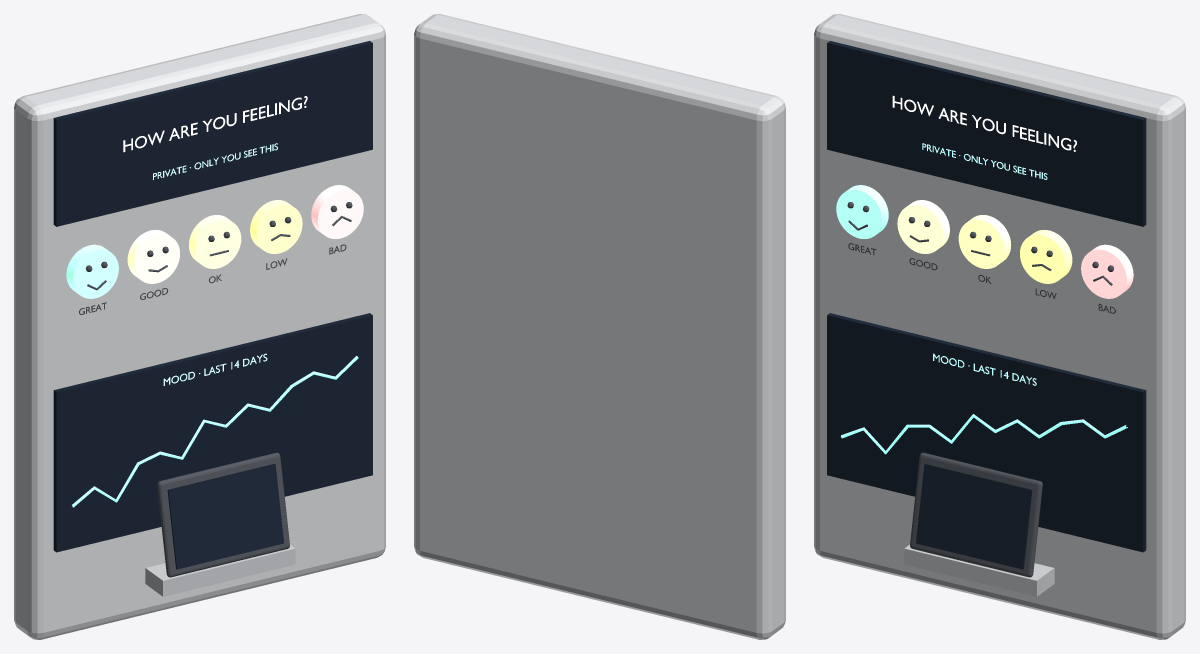
The model's file is mood_tracker.glb.
3 views of the same model, side by side, from view 1: azimuth 30°, elevation 25°; view 2: azimuth 150°, elevation 25°; view 3: azimuth 330°, elevation 25° (orthographic).
Parts seen in each view (by area): view 1: Crew_Tablet, Mood_Button.001, Mood_Button.002, Mood_Button, Mood_Trend, Question, Privacy_Note; view 2: Crew_Tablet; view 3: Crew_Tablet, Mood_Button.001, Mood_Button.002, Mood_Button, Mood_Trend, Question, Privacy_Note.
Part boxes in pixels (x1,y1,x2,y2): Crew_Tablet: (14,14,385,639); Mood_Button.001: (127,185,363,283); Mood_Button.002: (189,200,302,268); Mood_Button: (66,244,118,298); Mood_Trend: (72,356,358,507); Question: (123,96,307,152); Privacy_Note: (153,143,277,385); Crew_Tablet: (414,14,785,639); Crew_Tablet: (814,14,1185,639); Mood_Button.001: (897,200,1133,298); Mood_Button.002: (958,215,1072,283); Mood_Button: (836,185,888,238); Mood_Trend: (841,414,1127,454); Question: (892,95,1076,151); Privacy_Note: (922,143,1047,385).
Bounding box in the file's own units: 0.7 × 1 × 0.144.
Materials: 7 (7 with a texture image).
